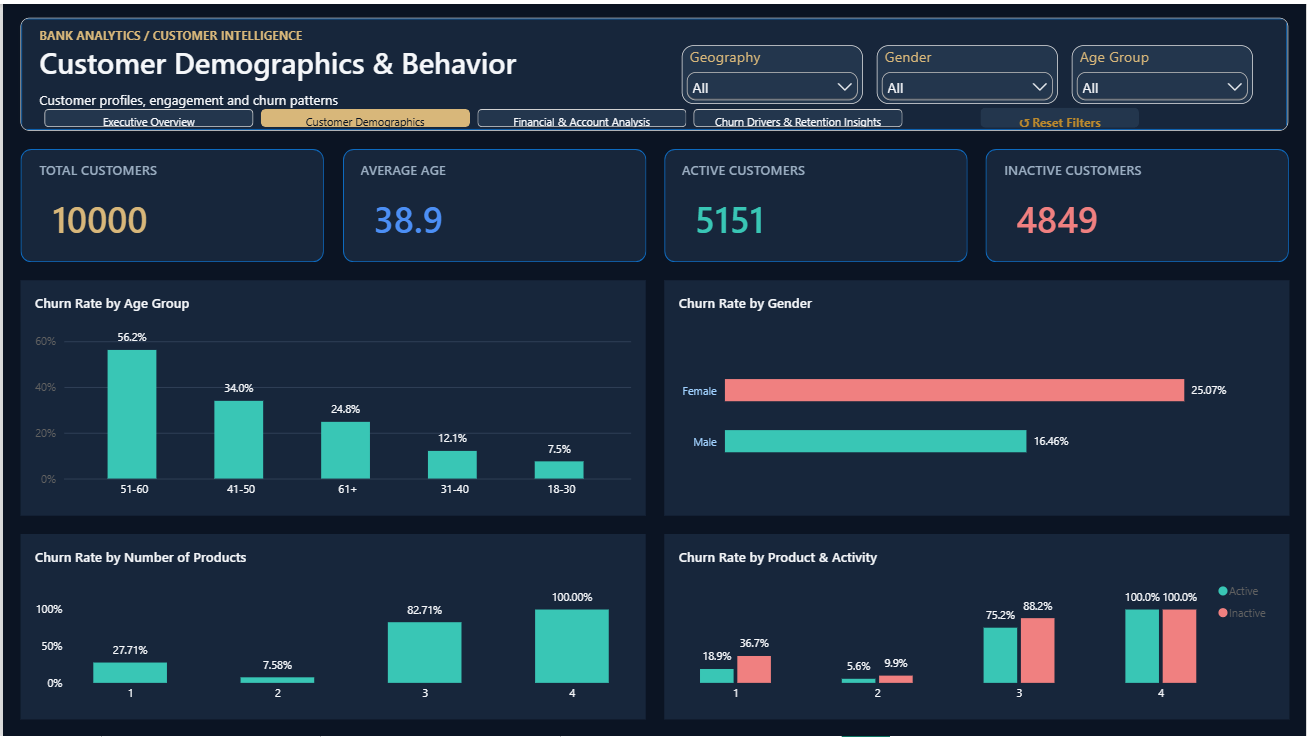

What the dashboard file says about the page in this screenshot:
{"tool":"powerbi","page":{"name":"Customer Demographics","canvas":[1440,810],"ordinal":1},"visuals":[{"type":"shape","box":[20,15,1400,125],"z":0},{"type":"textbox","box":[40,43,550,45],"z":1000},{"type":"textbox","box":[40,95,650,30],"z":2000},{"type":"textbox","box":[40,25,650,20],"z":3000},{"type":"shape","box":[20,160,335,125],"z":4000},{"type":"textbox","box":[40,173,240,25],"z":5000},{"type":"cardVisual","fields":{"Data":["_Measures.Total Customers"]},"box":[38,204,280,65],"z":6000},{"type":"shape","box":[375.5,160,335,125],"z":7000},{"type":"textbox","box":[395.5,173,240,25],"z":8000},{"type":"cardVisual","fields":{"Data":["_Measures.Average Customer Age"]},"box":[393.5,204,280,65],"z":9000},{"type":"shape","box":[730,160,335,125],"z":10000},{"type":"textbox","box":[750,173,240,25],"z":11000},{"type":"cardVisual","fields":{"Data":["_Measures.Active Customers"]},"box":[748,204,280,65],"z":12000},{"type":"shape","box":[1085,160,335,125],"z":13000},{"type":"textbox","box":[1105,173,240,25],"z":14000},{"type":"cardVisual","fields":{"Data":["_Measures.Inactive Customers"]},"box":[1103,204,280,65],"z":15000},{"type":"clusteredColumnChart","title":"Churn Rate by Age Group","fields":{"Category":["Bank_Customers.Age Group"],"Y":["_Measures.Churn Rate"]},"box":[20,305,690,260],"z":16000},{"type":"clusteredBarChart","title":"Churn Rate by Gender","fields":{"Category":["Bank_Customers.Gender"],"Y":["_Measures.Churn Rate"]},"box":[730,305,690,260],"z":17000},{"type":"clusteredColumnChart","title":"Churn Rate by Number of Products","fields":{"Category":["Bank_Customers.NumOfProducts"],"Y":["_Measures.Churn Rate"]},"box":[20,585,690,205],"z":18000},{"type":"clusteredColumnChart","title":"Churn Rate by Product & Activity","fields":{"Category":["Bank_Customers.NumOfProducts"],"Series":["Bank_Customers.Activity Status"],"Y":["_Measures.Churn Rate"]},"box":[730,585,690,205],"z":19000},{"type":"slicer","title":"Geography","fields":{"Values":["Bank_Customers.Geography"]},"box":[750,45,200,65],"z":20000},{"type":"slicer","title":"Geography","fields":{"Values":["Bank_Customers.Gender"]},"box":[965,45,200,65.1],"z":21000},{"type":"slicer","title":"Geography","fields":{"Values":["Bank_Customers.Age Group"]},"box":[1180,45,200,65.1],"z":22000},{"type":"actionButton","box":[1080,115,175,22],"z":23000},{"type":"pageNavigator","title":"Executive","box":[45,116,950,20],"z":23001}]}

Visuals, with their boxes in screenshot pixels (x1, y1, x2, y2), scaled from the page's 1440x810 canvas onto the 1307x737 screenshot:
shape: 18:14:1289:127
textbox: 36:39:536:80
textbox: 36:86:626:114
textbox: 36:23:626:41
shape: 18:146:322:259
textbox: 36:157:254:180
cardVisual - _Measures.Total Customers: 34:186:289:245
shape: 341:146:645:259
textbox: 359:157:577:180
cardVisual - _Measures.Average Customer Age: 357:186:611:245
shape: 663:146:967:259
textbox: 681:157:899:180
cardVisual - _Measures.Active Customers: 679:186:933:245
shape: 985:146:1289:259
textbox: 1003:157:1221:180
cardVisual - _Measures.Inactive Customers: 1001:186:1255:245
"Churn Rate by Age Group" clusteredColumnChart: 18:278:644:514
"Churn Rate by Gender" clusteredBarChart: 663:278:1289:514
"Churn Rate by Number of Products" clusteredColumnChart: 18:532:644:719
"Churn Rate by Product & Activity" clusteredColumnChart: 663:532:1289:719
"Geography" slicer: 681:41:862:100
"Geography" slicer: 876:41:1057:100
"Geography" slicer: 1071:41:1253:100
actionButton: 980:105:1139:125
"Executive" pageNavigator: 41:106:903:124
